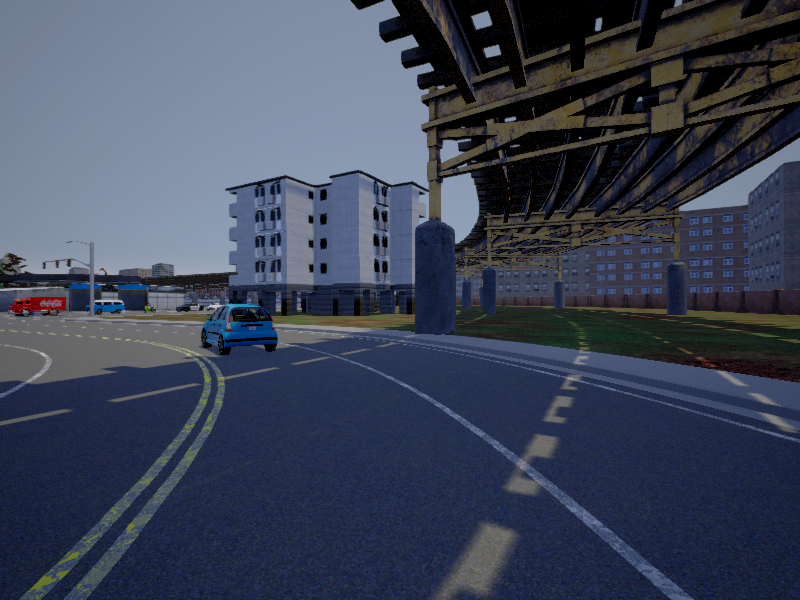Benign: (199, 306, 280, 356), (12, 296, 69, 317), (88, 301, 129, 316)
